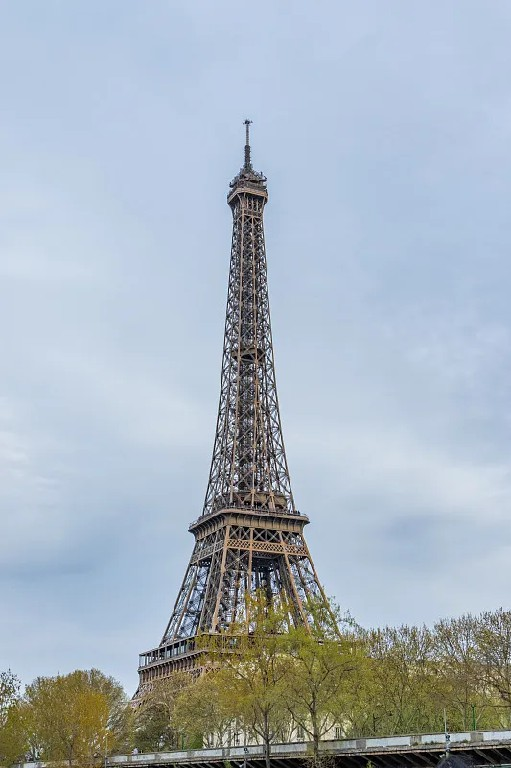Eiffel: (106, 118, 361, 726)
